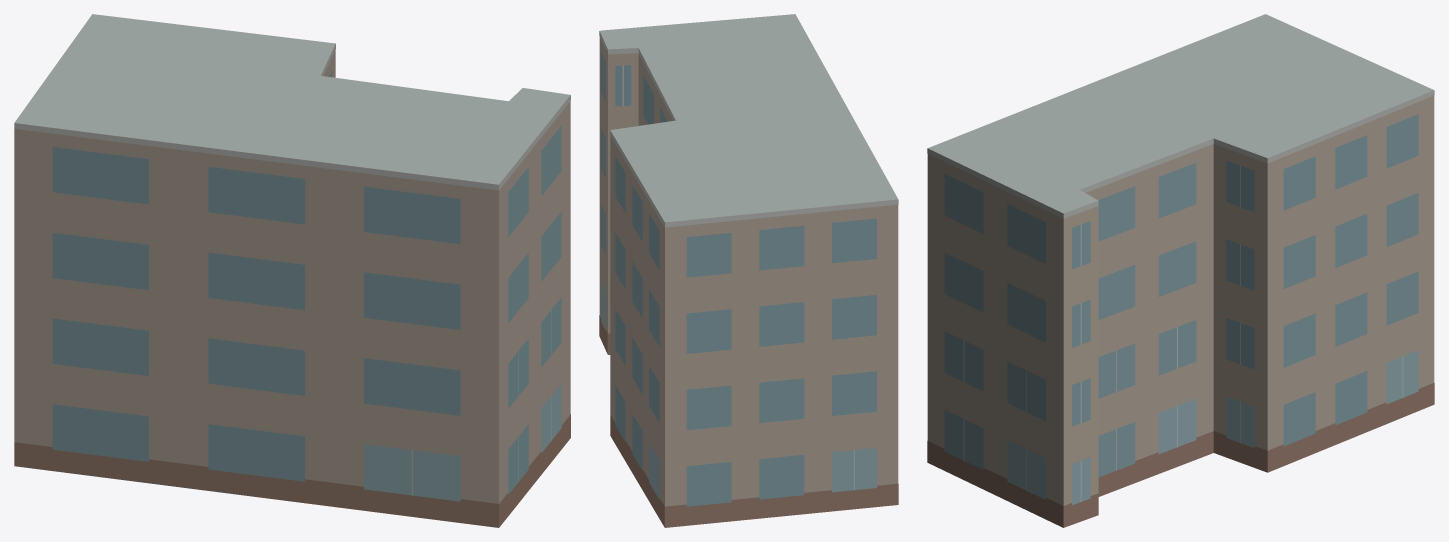
File: survey-upis-32575620.glb
The picture shows the model from 3 angles, left to right: view 1: azimuth 30°, elevation 25°; view 2: azimuth 150°, elevation 25°; view 3: azimuth 270°, elevation 25°; orthographic projection. The views are drawn at different scales.
Parts seen in each view (by area): view 1: survey-upis-32575620.tmp; view 2: survey-upis-32575620.tmp; view 3: survey-upis-32575620.tmp.
Boxes of the visible parts, x1,y1,x2,y2 form: survey-upis-32575620.tmp: (14,14,570,527); survey-upis-32575620.tmp: (599,14,898,527); survey-upis-32575620.tmp: (927,14,1434,527).
Size of the model in its own units: 19.81 by 14.55 by 21.27.
